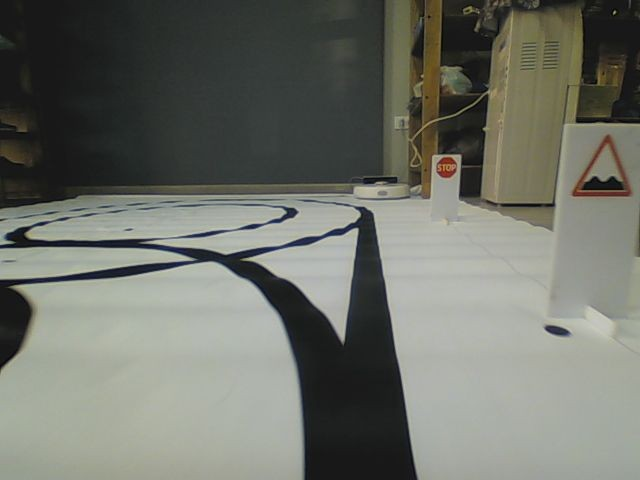Stop: (434, 155, 458, 178)
